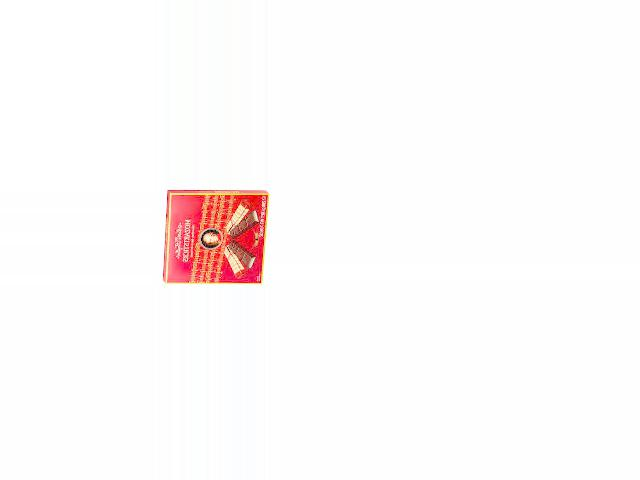chocolate: (164, 189, 271, 286)
